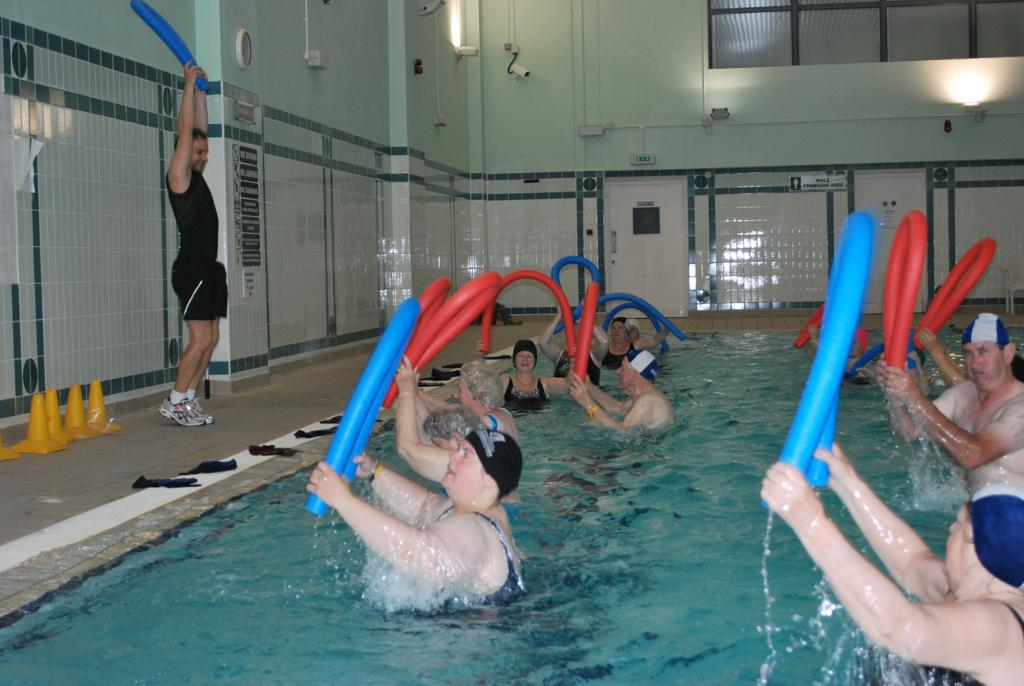face: (945, 507, 983, 574), (442, 440, 481, 489), (963, 344, 1004, 390), (454, 377, 474, 415), (190, 140, 209, 172), (430, 435, 457, 457), (617, 357, 634, 387), (516, 352, 535, 370), (612, 322, 628, 342), (848, 337, 860, 357)
